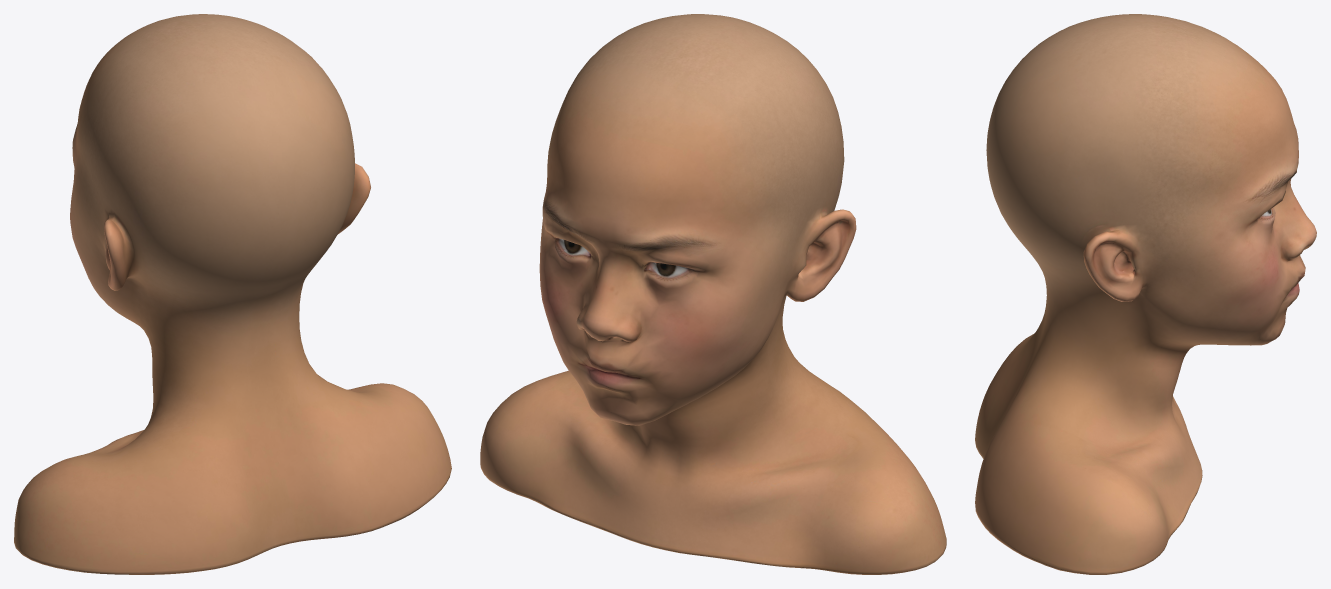
Rendered from Model_HairHead_Nier.glb.
3 views of the same model, side by side, from view 1: azimuth 30°, elevation 25°; view 2: azimuth 150°, elevation 25°; view 3: azimuth 270°, elevation 25° (orthographic). The views are drawn at different scales.
Parts seen in each view (by area): view 1: HairHead_Nier; view 2: HairHead_Nier; view 3: HairHead_Nier.
Part boxes in pixels (box(x1,y1,x2,y2)): HairHead_Nier: box(14, 14, 451, 574); HairHead_Nier: box(480, 14, 946, 574); HairHead_Nier: box(975, 14, 1316, 574).
Bounding box in the file's own units: 0.2833 × 0.2967 × 0.2046.
1 material, 1 textured.
